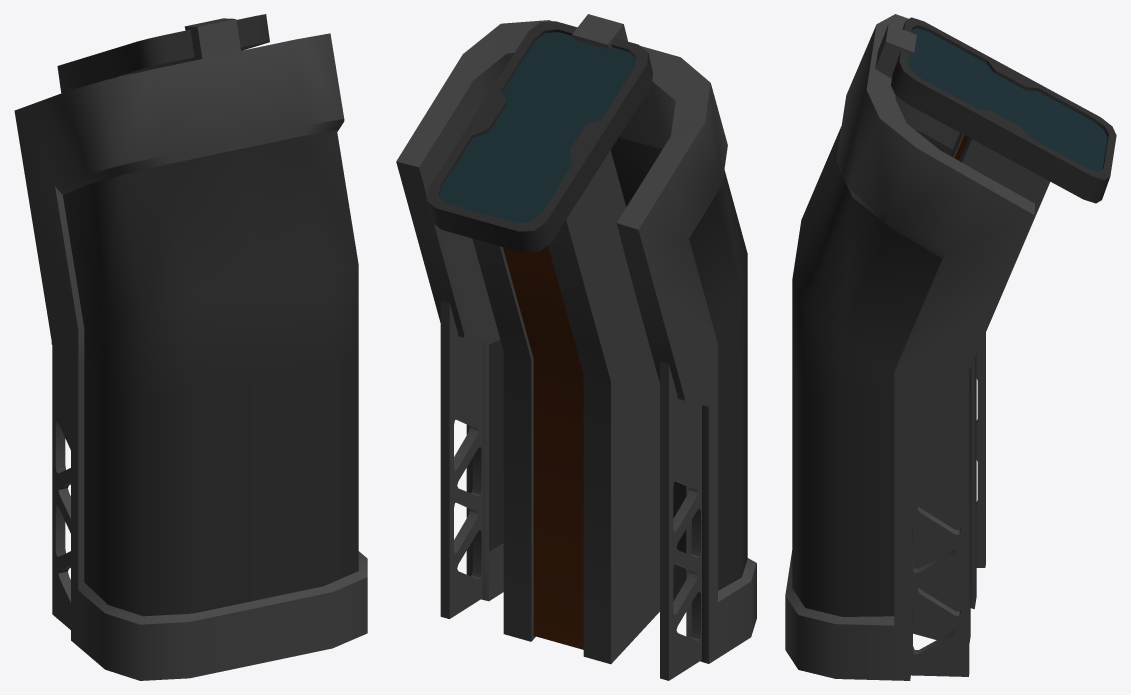
The model's file is Computer_Cube_001.obj.
The picture shows the model from 3 angles, left to right: view 1: azimuth 30°, elevation 25°; view 2: azimuth 150°, elevation 25°; view 3: azimuth 270°, elevation 25°; orthographic projection. The views are drawn at different scales.
Parts seen in each view (by area): view 1: Computer_Cube.001; view 2: Computer_Cube.001; view 3: Computer_Cube.001.
Boxes of the visible parts, box(x1,y1,x2,y2) form: Computer_Cube.001: box(14, 14, 367, 680); Computer_Cube.001: box(396, 14, 756, 680); Computer_Cube.001: box(785, 14, 1116, 680).
Size of the model in its own units: 0.3001 by 0.6538 by 0.3342.
